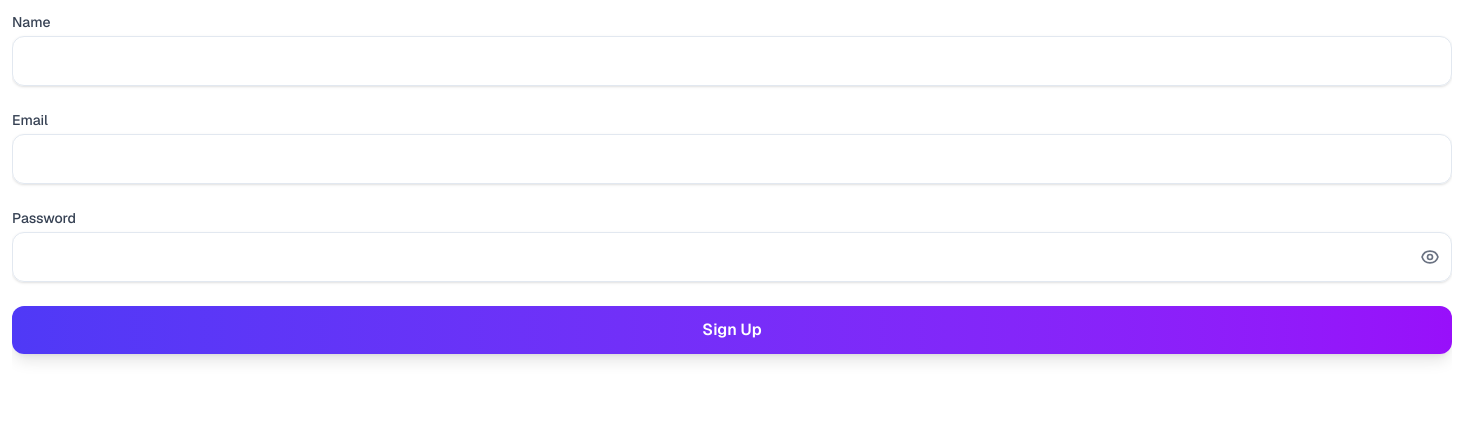
Authentication Flows › displays an error if signup email is already registered
Type "Existing User" into the field labelled "Name" at (732, 61), box [12, 36, 1452, 86]
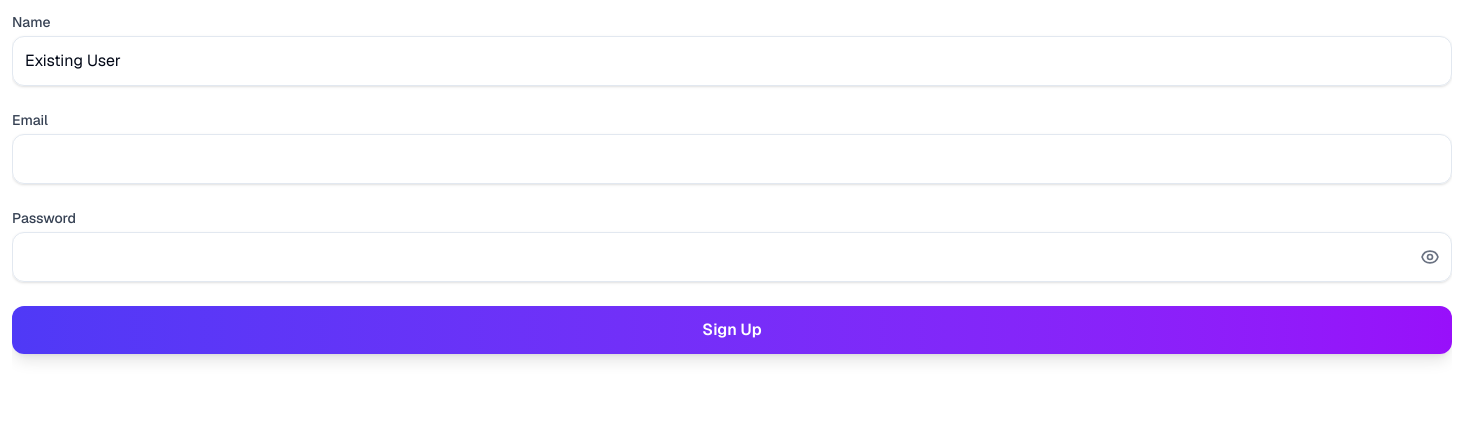
Type "existing@example.com" into the field labelled "Email" at (732, 159), box [12, 134, 1452, 184]
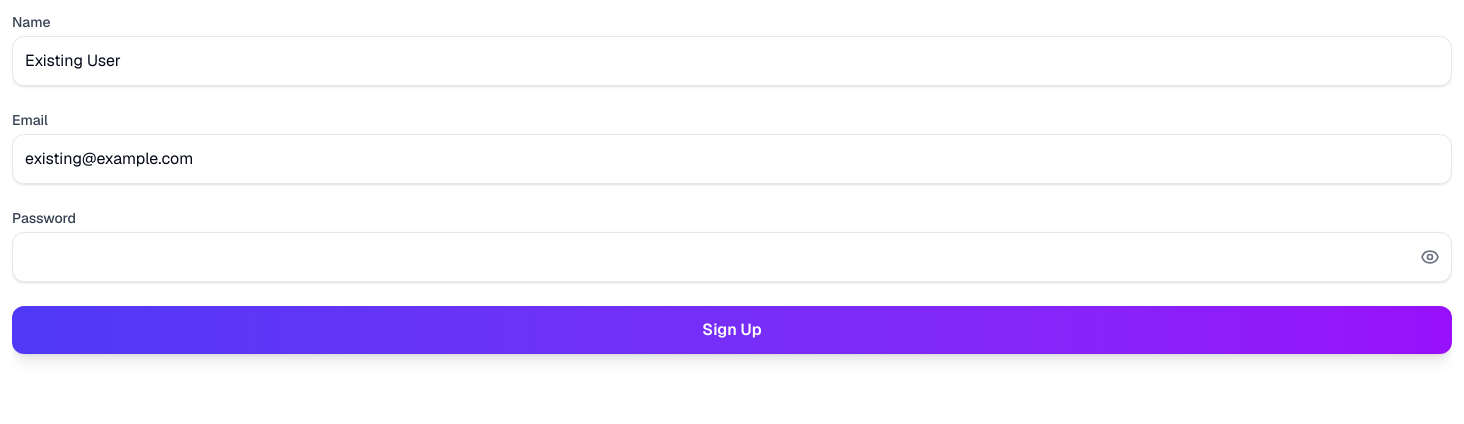
Type "securepassword" into the password field labelled "Password" at (732, 257), box [12, 232, 1452, 282]
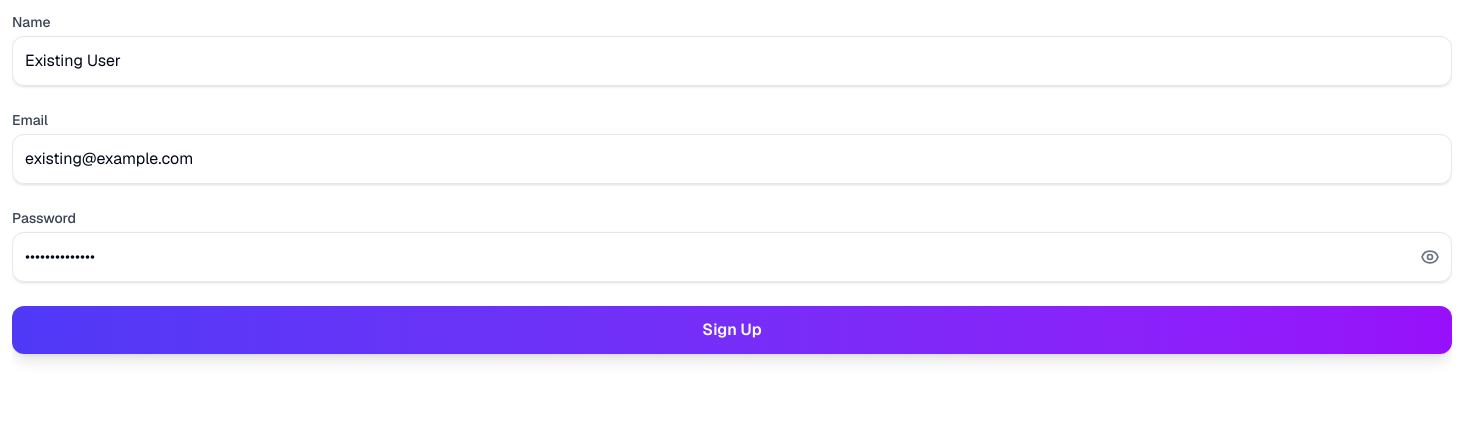
Click the button "Sign Up" at (732, 330), box [12, 306, 1452, 354]
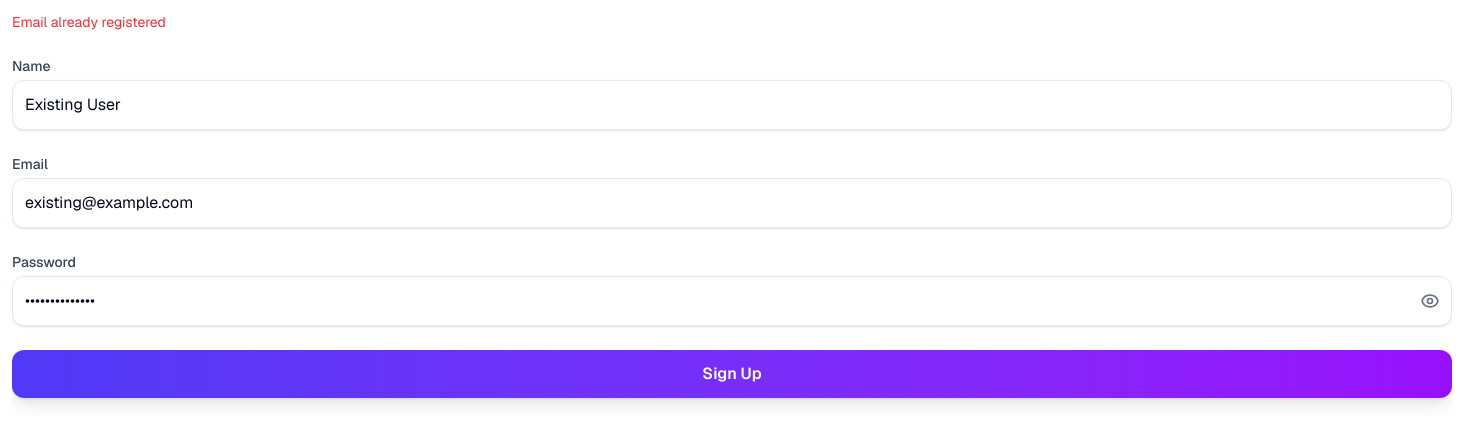
Result: the text "Email already registered" is shown at [12, 13, 166, 31]
